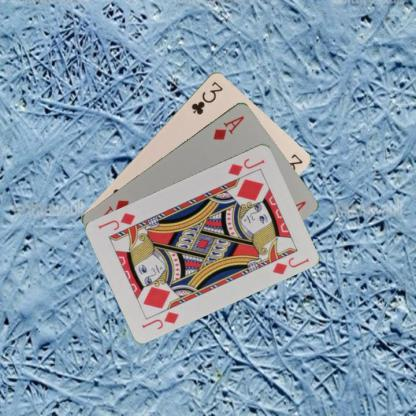3c: (188, 78, 224, 116)
Ad: (210, 113, 246, 141)
Jd: (226, 155, 266, 177), (140, 308, 180, 330)
